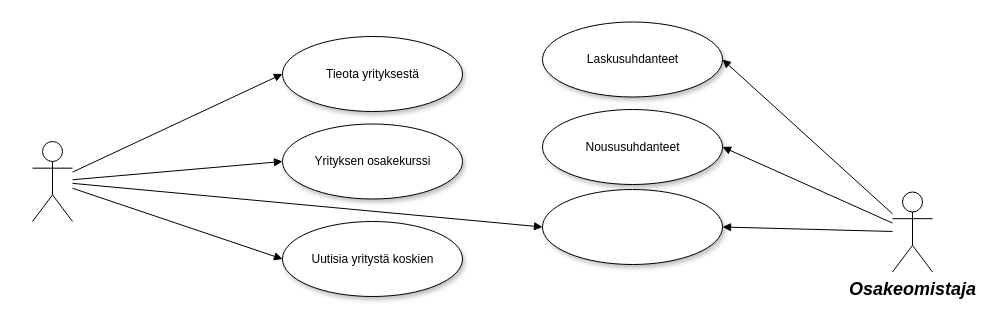
The diagram is 993 pixels wide and 321 high, and some of its shapes have lost their labels. Here are the shapes that lost their labels. From the top down, the centre of each, then its label:
At (52,181): "Käyttäjä".
At (633,228): "Saada tiedon päivän suu- rimmista heilahduksista".
